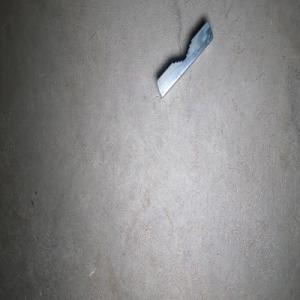ClampPart: (155, 19, 214, 99)
